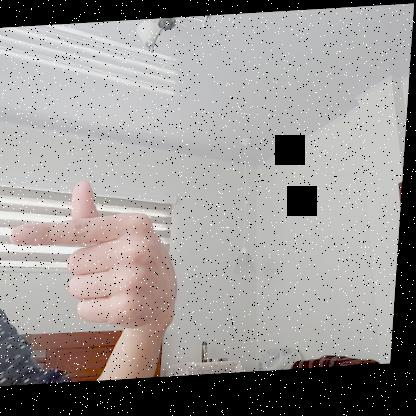T: (9, 176, 187, 336)
